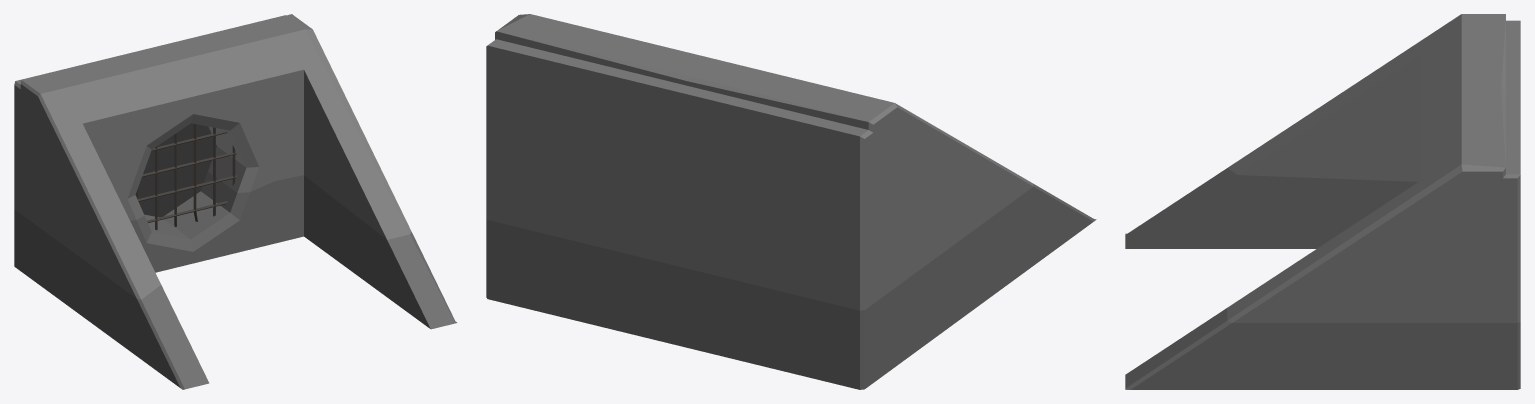
The model's file is SM_Envr_Canal_Discharge_02.fbx.
3 renders of one model, left to right at view 1: azimuth 30°, elevation 25°; view 2: azimuth 150°, elevation 25°; view 3: azimuth 270°, elevation 25°, orthographic. The views are drawn at different scales.
Parts seen in each view (by area): view 1: SM_Envr_Canal_Discharge_02; view 2: SM_Envr_Canal_Discharge_02; view 3: SM_Envr_Canal_Discharge_02.
Part boxes in pixels (x1,y1,x2,y2): SM_Envr_Canal_Discharge_02: (14,14,457,389); SM_Envr_Canal_Discharge_02: (486,14,1096,389); SM_Envr_Canal_Discharge_02: (1125,14,1520,389).
Size of the model in its own units: 500 by 330 by 535.
